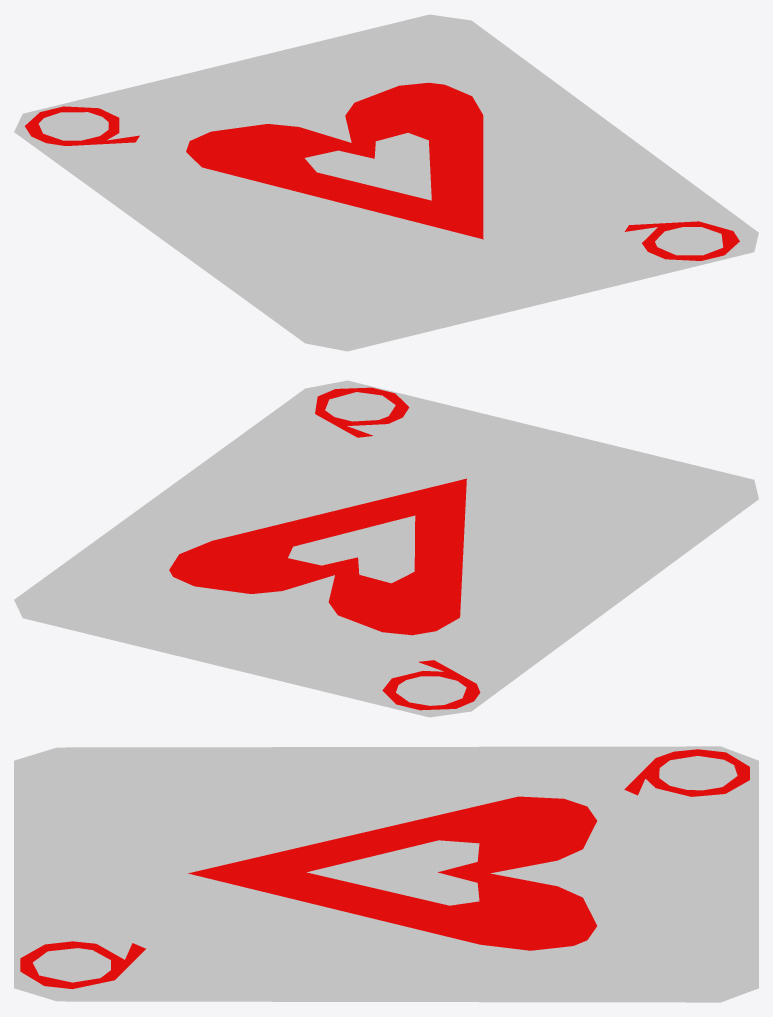
The model's file is single_card.gltf.
3 views of the same model, one above another, from view 1: azimuth 30°, elevation 25°; view 2: azimuth 150°, elevation 25°; view 3: azimuth 270°, elevation 25° (orthographic). The views are drawn at different scales.
Visible parts, largest first — view 1: white2, red, white, red2, red3; view 2: white2, red, white, red2, red3; view 3: white2, red, white, red3, red2.
Boxes of the visible parts, box(x1,y1,x2,y2) form: white2: box(14, 14, 758, 351); red: box(186, 82, 483, 239); white: box(305, 133, 431, 200); red2: box(25, 106, 139, 145); red3: box(625, 221, 739, 260); white2: box(14, 380, 758, 717); red: box(169, 478, 466, 635); white: box(288, 515, 415, 583); red2: box(382, 660, 480, 710); red3: box(315, 387, 409, 437); white2: box(14, 746, 758, 1002); red: box(188, 796, 596, 950); white: box(307, 840, 479, 905); red3: box(20, 941, 145, 988); red2: box(624, 749, 749, 796).
Bounding box in the file's own units: 1.57 × 0.0194 × 1.94.
